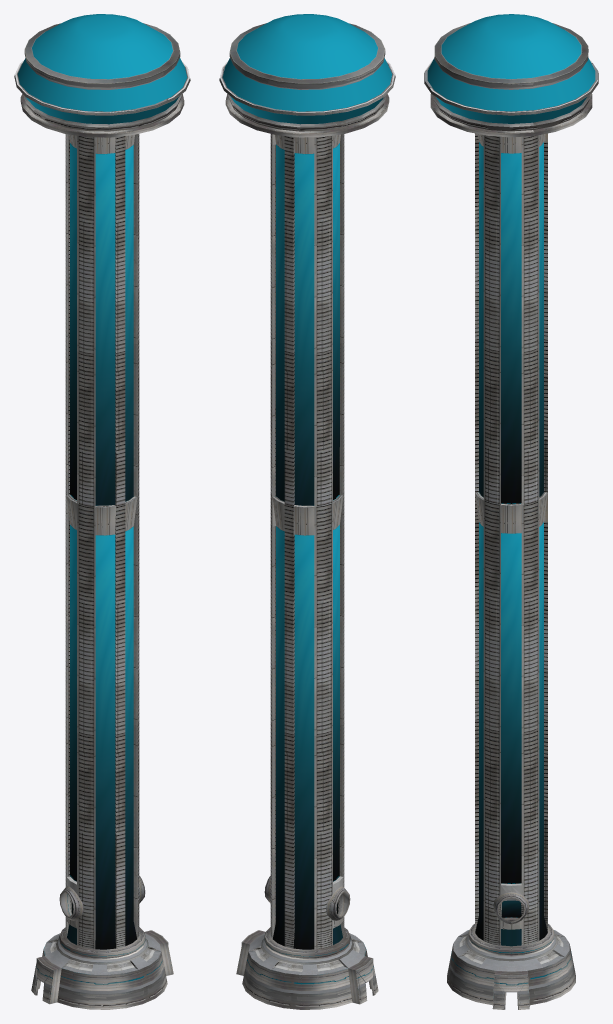
File: tower2.dae
The picture shows the model from 3 angles, left to right: view 1: azimuth 30°, elevation 25°; view 2: azimuth 150°, elevation 25°; view 3: azimuth 270°, elevation 25°; orthographic projection.
Parts seen in each view (by area): view 1: S_A3D_Glass-0-HighRiseD-fx, S_A3D_Glass-0-A3D_Glass-fx; view 2: S_A3D_Glass-0-HighRiseD-fx, S_A3D_Glass-0-A3D_Glass-fx; view 3: S_A3D_Glass-0-HighRiseD-fx, S_A3D_Glass-0-A3D_Glass-fx.
Part boxes in pixels (x1,y1,x2,y2): S_A3D_Glass-0-HighRiseD-fx: (14, 23, 190, 1009); S_A3D_Glass-0-A3D_Glass-fx: (17, 14, 187, 949); S_A3D_Glass-0-HighRiseD-fx: (219, 23, 395, 1009); S_A3D_Glass-0-A3D_Glass-fx: (222, 14, 392, 949); S_A3D_Glass-0-HighRiseD-fx: (424, 23, 598, 1009); S_A3D_Glass-0-A3D_Glass-fx: (427, 14, 595, 946).
Bounding box in the file's own units: 27.87 × 167 × 27.6.
